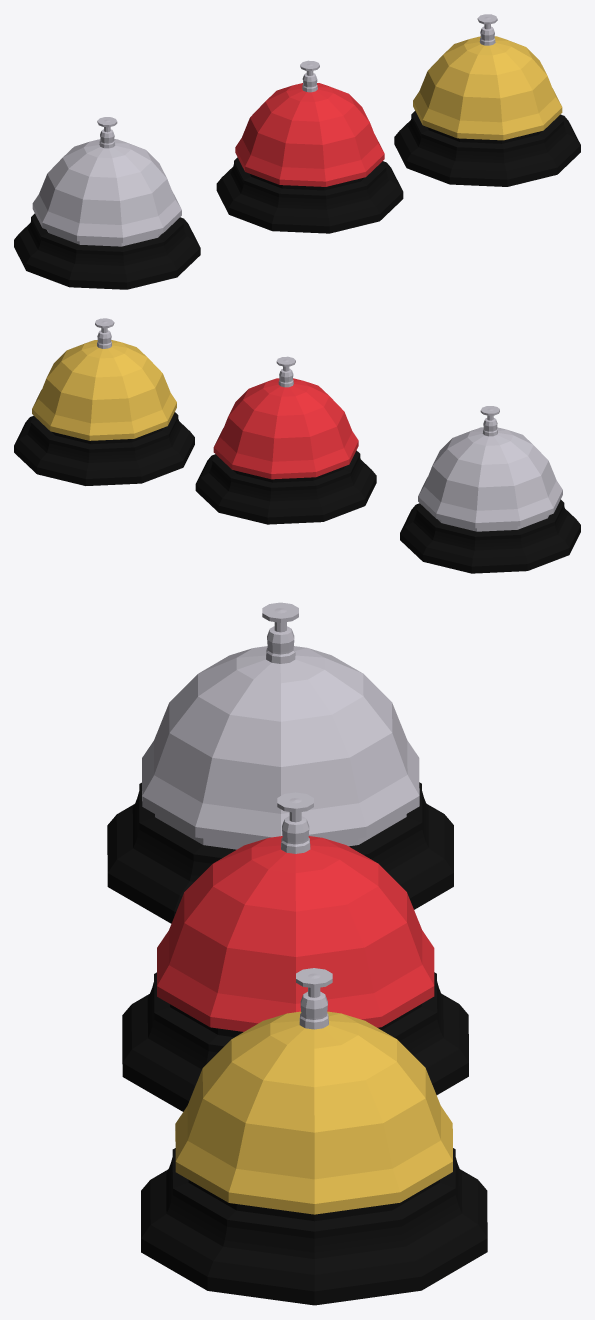
The model's file is New_bells.fbx.
3 views of the same model, one above another, from view 1: azimuth 30°, elevation 25°; view 2: azimuth 150°, elevation 25°; view 3: azimuth 270°, elevation 25° (orthographic). The views are drawn at different scales.
Visible parts, largest first — view 1: Red_bell, Silver_bell, Gold_bell; view 2: Gold_bell, Red_bell, Silver_bell; view 3: Gold_bell, Silver_bell, Red_bell.
Boxes of the visible parts, <box> form: Red_bell: <box>216,60,403,233</box>; Silver_bell: <box>14,117,200,289</box>; Gold_bell: <box>394,14,580,186</box>; Gold_bell: <box>14,318,194,485</box>; Red_bell: <box>195,356,376,524</box>; Silver_bell: <box>400,406,580,573</box>; Gold_bell: <box>141,968,487,1305</box>; Silver_bell: <box>107,602,453,923</box>; Red_bell: <box>122,792,468,1111</box>.
Bounding box in the file's own units: 355 × 81.93 × 109.
